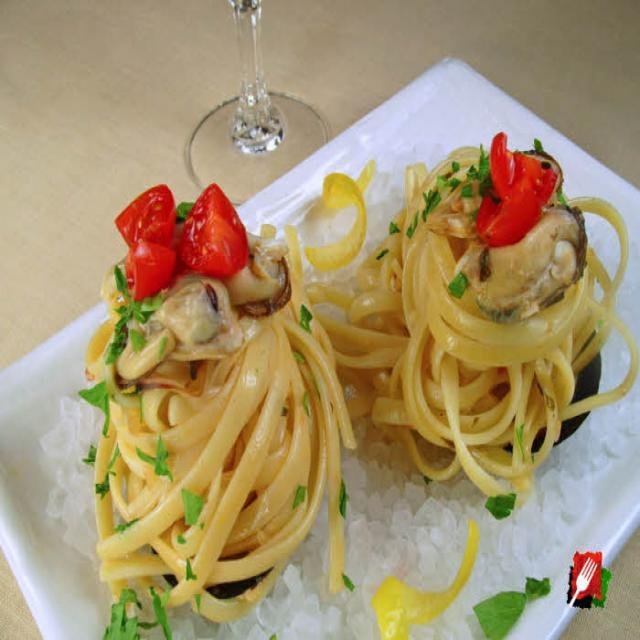Oil pasta: (80, 182, 591, 604)
